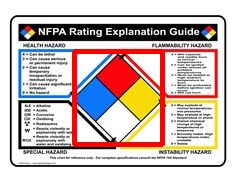nfpa: (74, 51, 162, 144)
